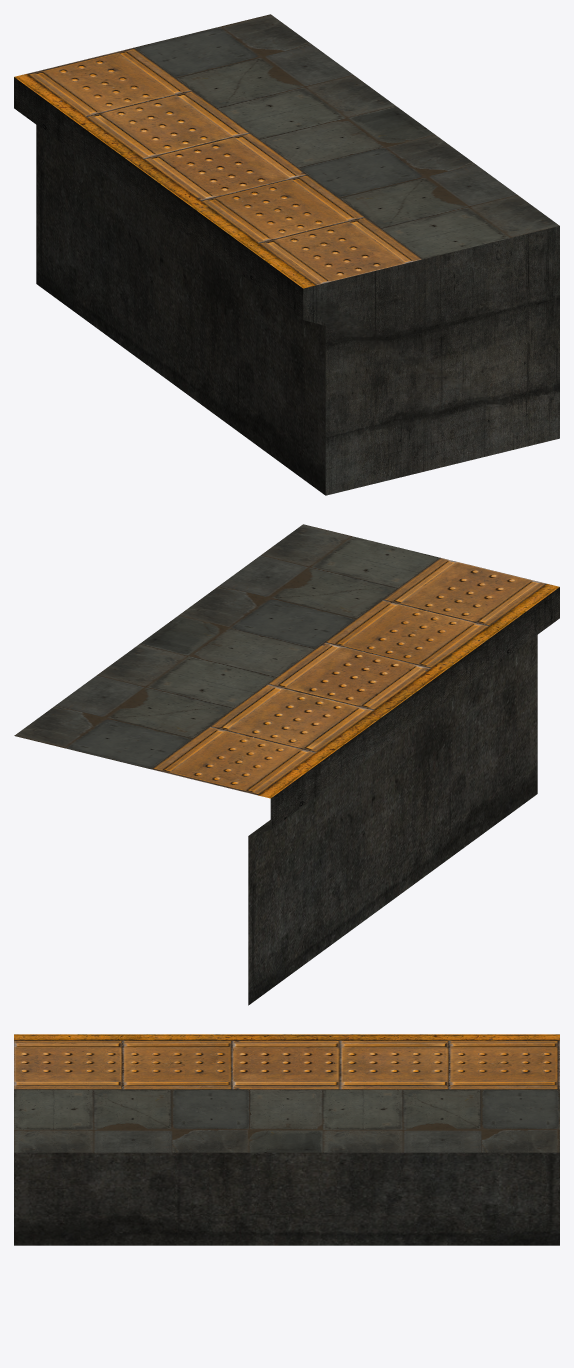
The model's file is PlatformFloorHalf.fbx.
3 views of the same model, one above another, from view 1: azimuth 30°, elevation 25°; view 2: azimuth 150°, elevation 25°; view 3: azimuth 270°, elevation 25° (orthographic). The views are drawn at different scales.
Parts seen in each view (by area): view 1: PlatformFloorHalf; view 2: PlatformFloorHalf; view 3: PlatformFloorHalf.
Part boxes in pixels (x1,y1,x2,y2): PlatformFloorHalf: (14, 14, 559, 495); PlatformFloorHalf: (14, 524, 559, 1005); PlatformFloorHalf: (14, 1034, 559, 1245).
Size of the model in its own units: 192 by 152 by 375.
